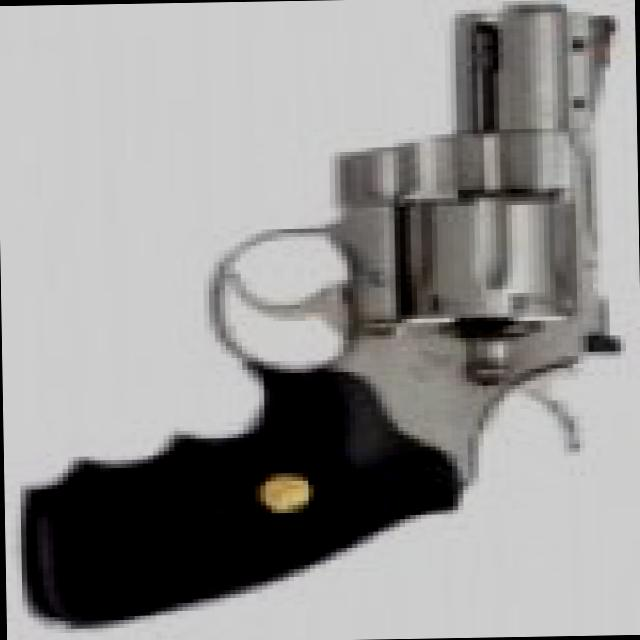handgun: (16, 2, 635, 626)
